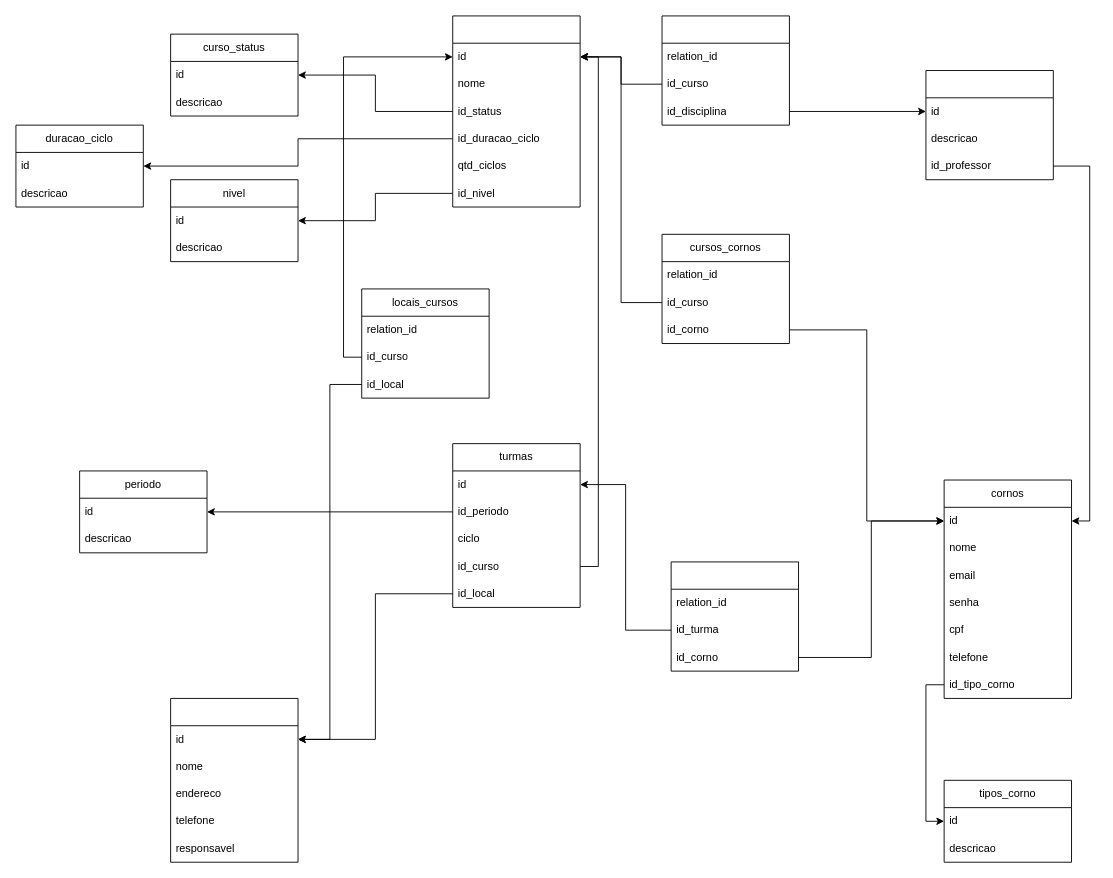
Some shapes in this 1113 by 878 pixel diagram are drawn without their labels. Here are the shapes that lost their labels. From the top down, the box of each, then its label:
(661, 15, 789, 125): cursos_disciplinas
(452, 15, 580, 207): cursos
(925, 70, 1053, 180): disciplinas
(670, 561, 799, 671): turmas_cornos
(170, 698, 298, 862): locais
